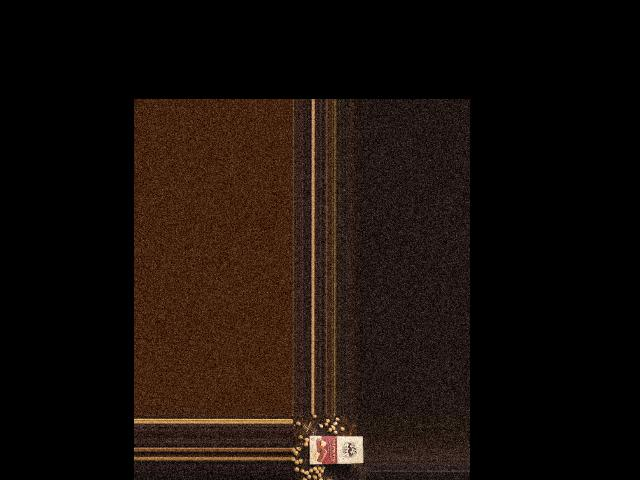chocolate: (307, 434, 364, 467)
